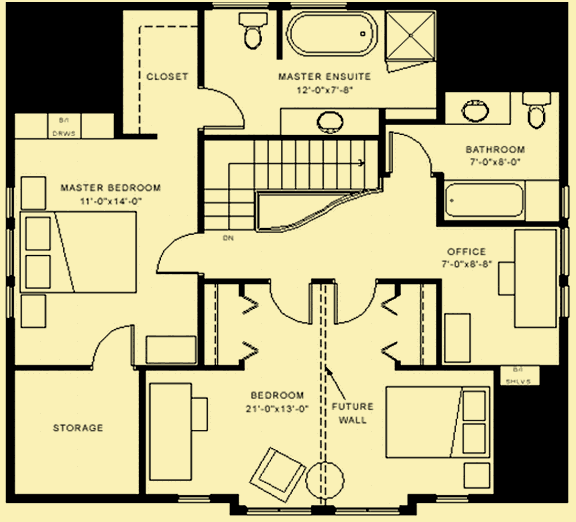bed: (18, 207, 141, 299), (384, 385, 493, 459)
door: (388, 129, 435, 176), (328, 279, 375, 326), (266, 278, 313, 325), (90, 323, 137, 370), (197, 86, 245, 129), (154, 233, 202, 276)
large_sink: (235, 9, 271, 54), (520, 89, 553, 135)
small_sink: (273, 105, 379, 134), (440, 94, 511, 126)
small_sofa: (248, 445, 307, 504)
stairs: (203, 136, 380, 232)
tub: (282, 6, 380, 60), (442, 177, 526, 223)
window: (2, 185, 16, 316), (560, 227, 572, 318), (330, 504, 399, 515), (245, 507, 311, 515)
